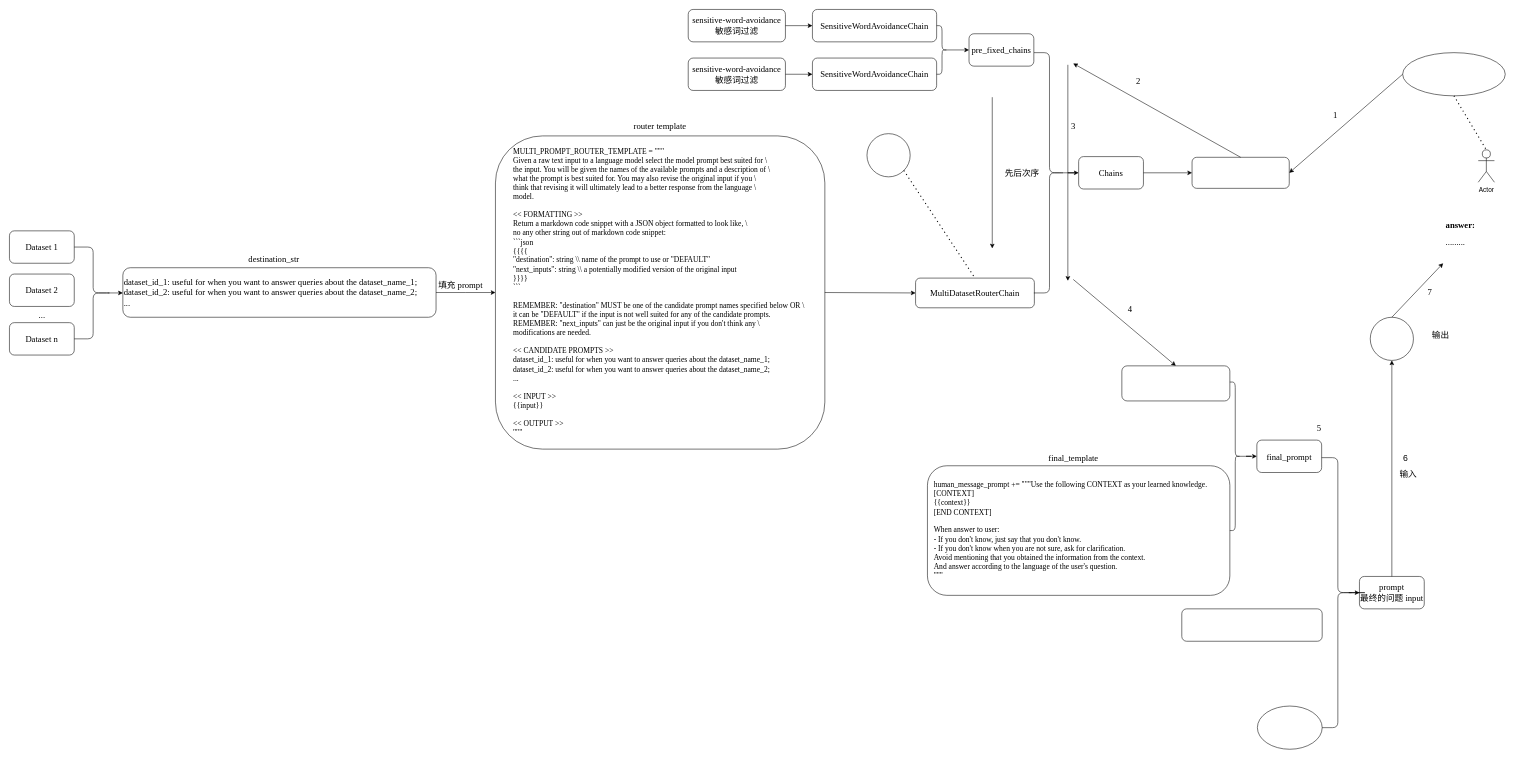
The diagram is 1528 pixels wide and 759 high, and some of its shapes have lost their labels. Each missing label, with the centre of its shape:
"Context: 根据query进行相似性搜索之后的文档" belongs at (1175,383).
"final_llm" belongs at (1391,338).
"llm" belongs at (888,155).
"memory : 历史聊天记录 conversation" belongs at (1251,624).
"query" belongs at (1289,727).
"query: 如何优雅使用并发" belongs at (1453,74).
"Sequential_Chain" belongs at (1240,172).
